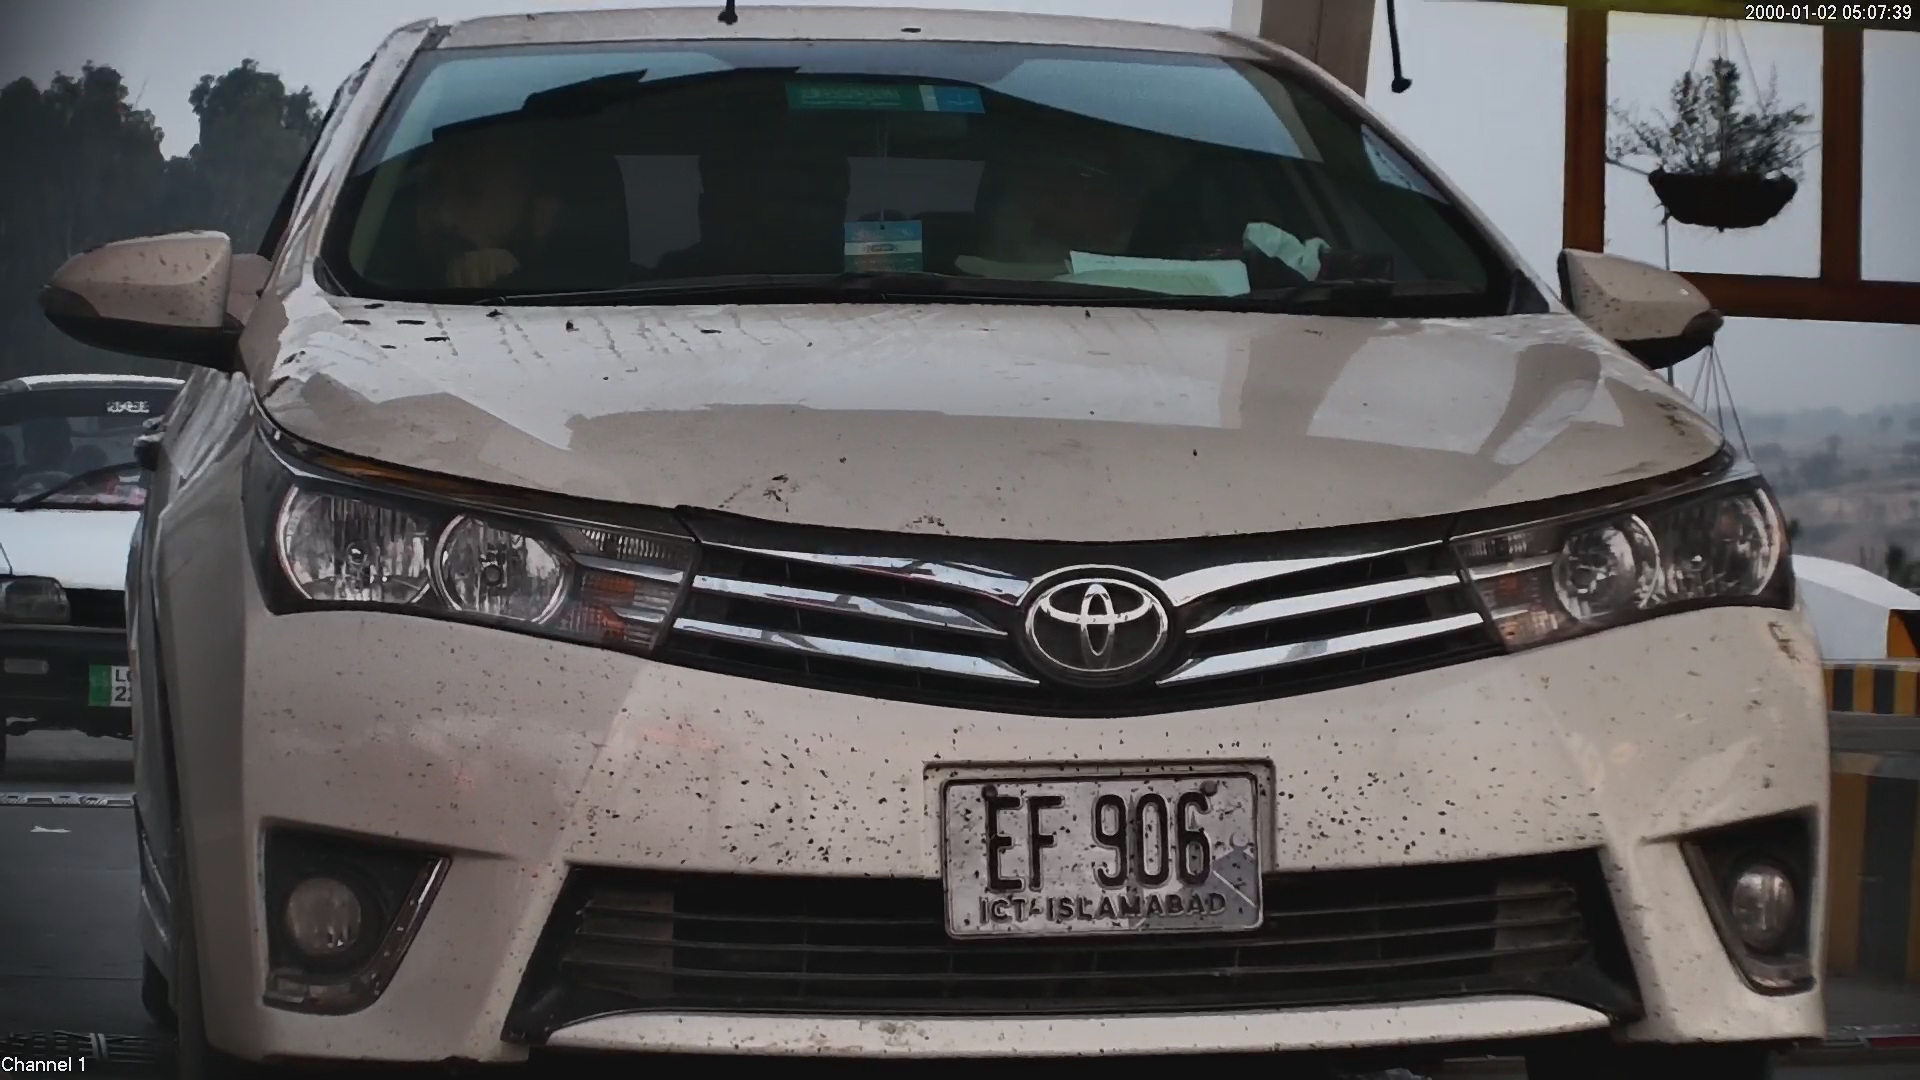Number_Plate: (929, 760, 1273, 942)
